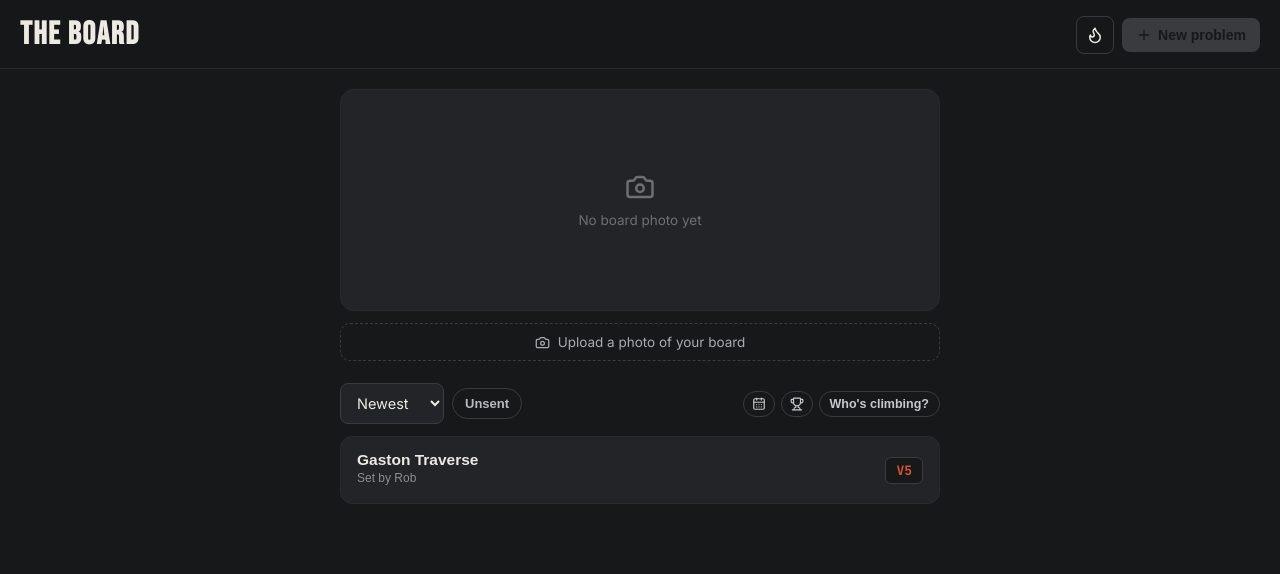
Test case: App (delete flow) › asks for confirmation before deleting, then deletes on confirm
What coordinates should you click on to do the following:
click the text "Gaston Traverse"
I would click on:
 (418, 460)
Its box is [357, 451, 478, 469].
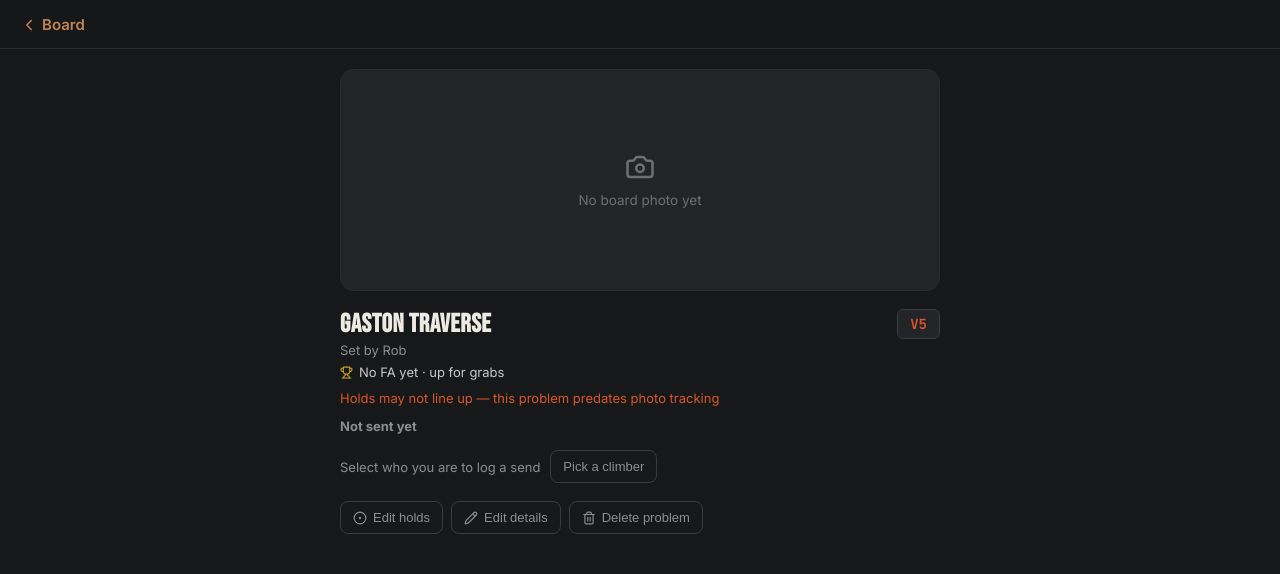
What coordinates should you click on to do the following:
click the button "Delete problem"
I would click on:
 (636, 518)
Its box is [569, 501, 703, 534].
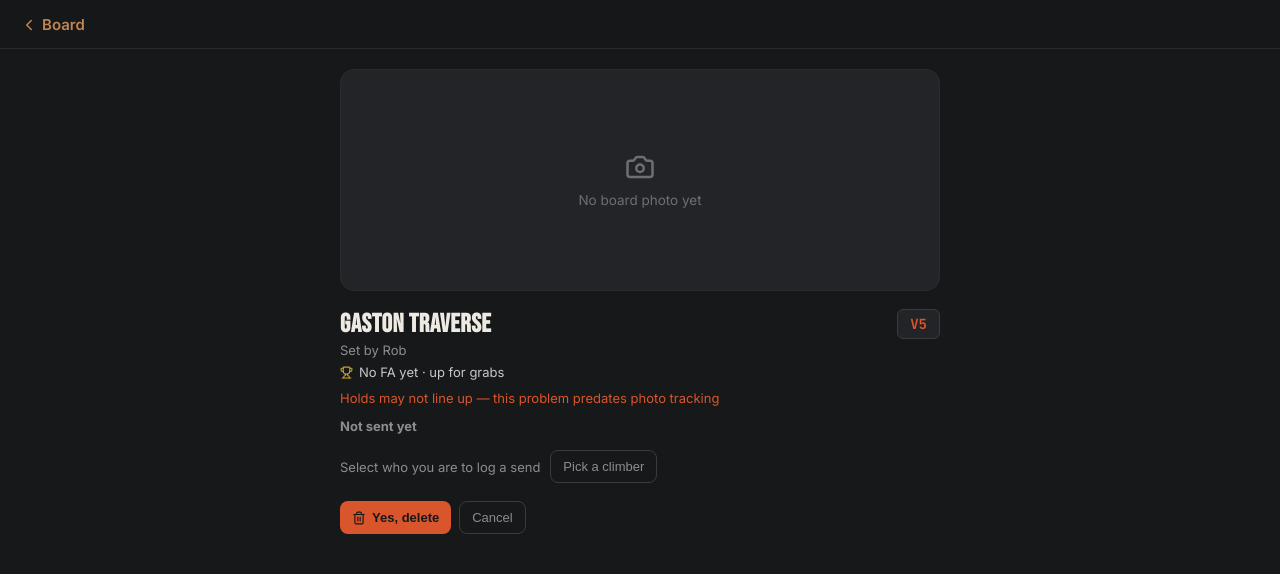
What coordinates should you click on to do the following:
click the button "Yes, delete"
I would click on:
 (396, 518)
Its box is [340, 501, 451, 534].
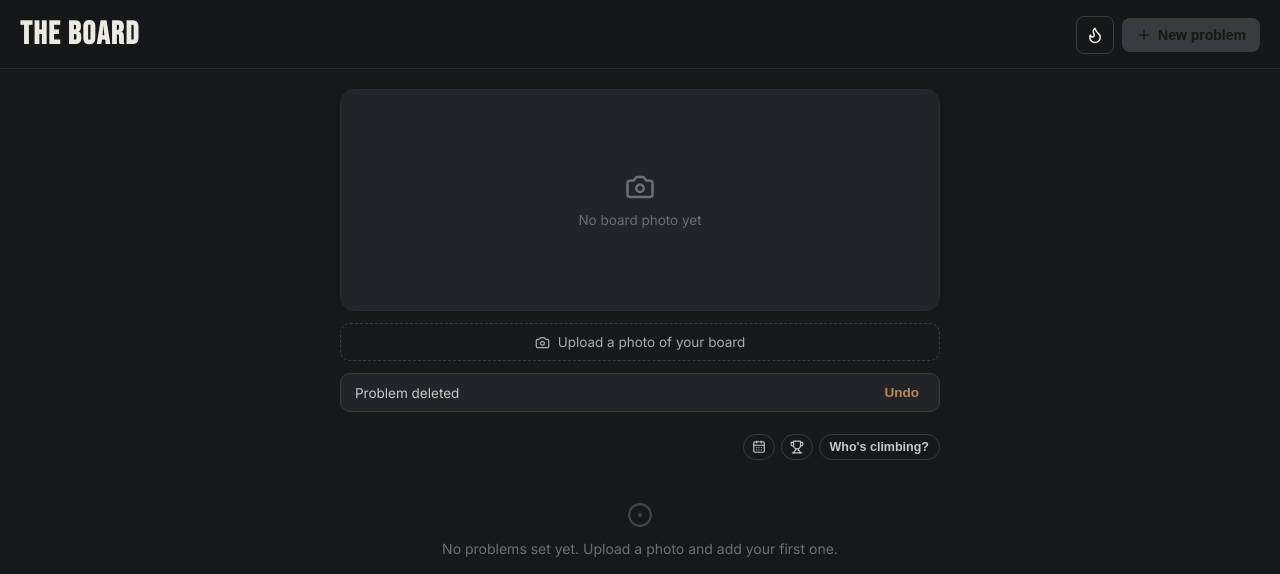
Now the text "No problems set yet. Upload a photo and add your first one." is shown, box [442, 540, 838, 557]
